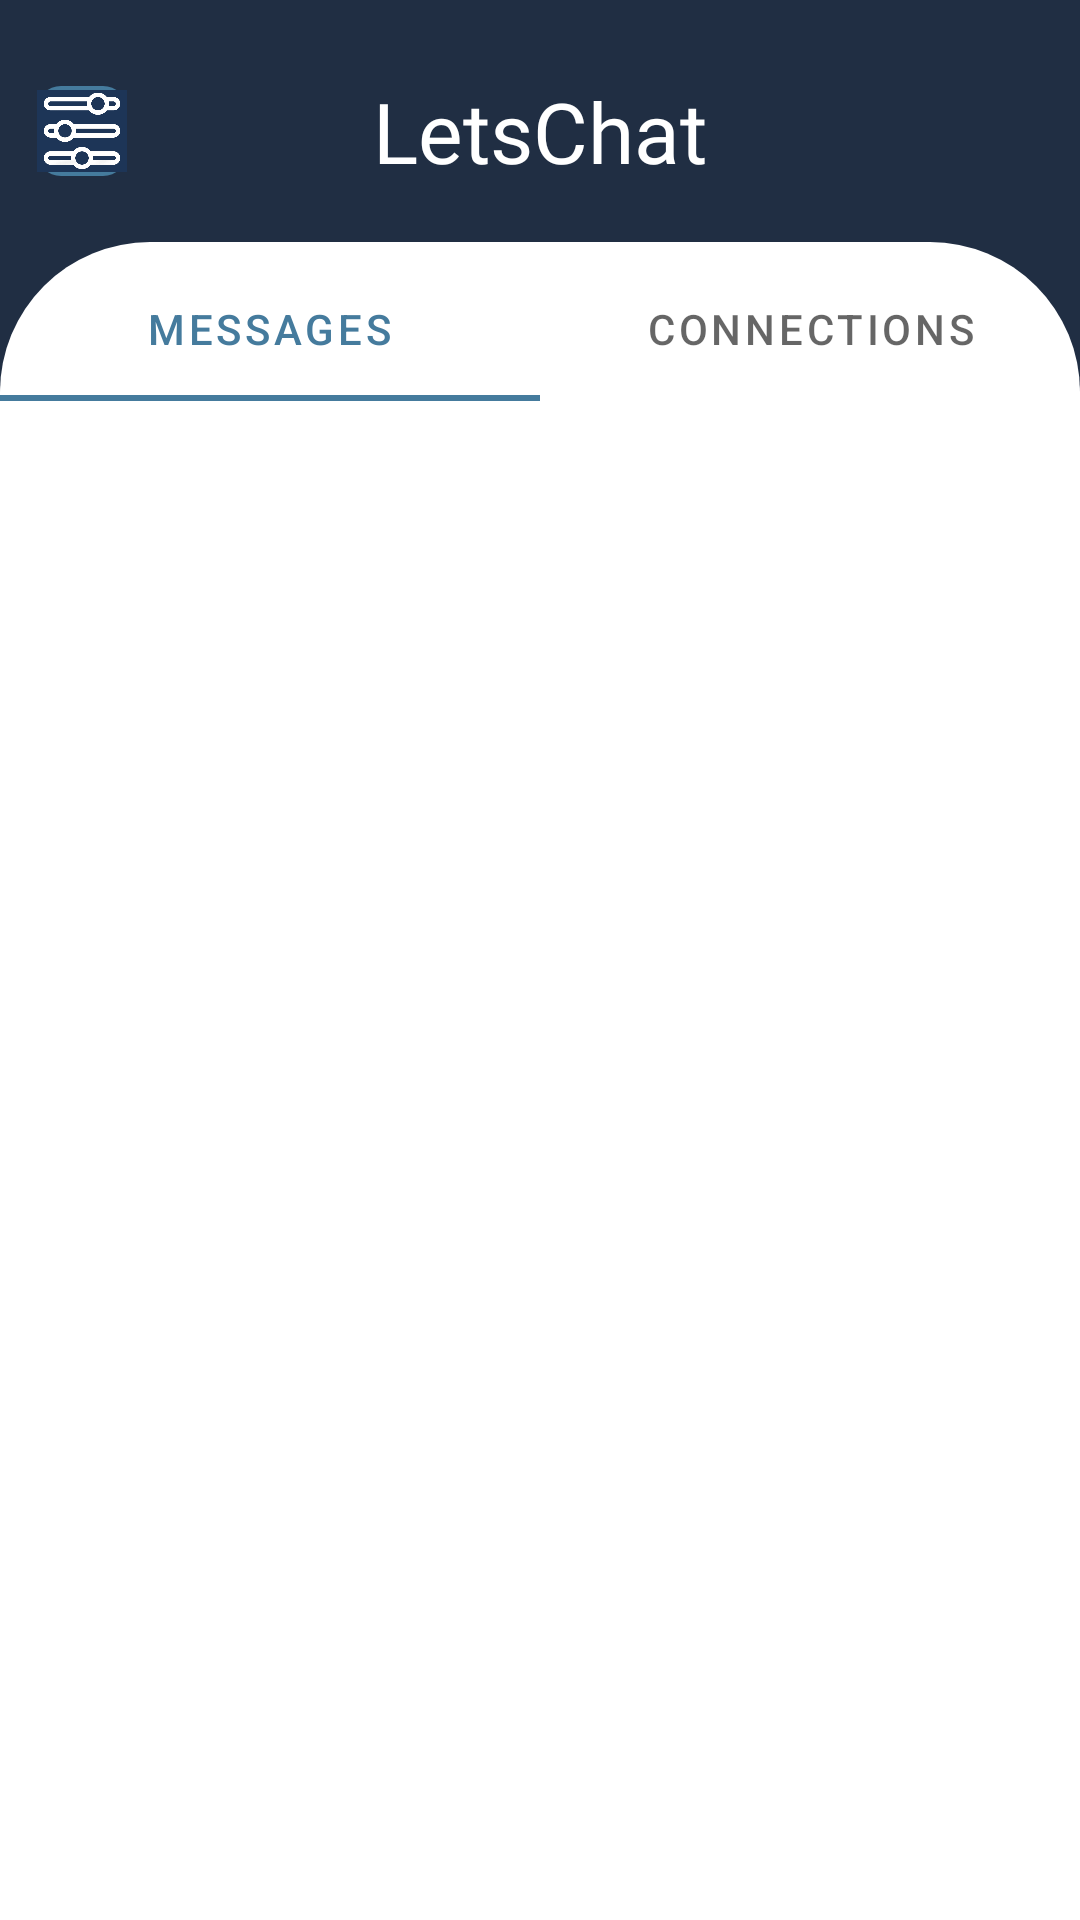

Icons on this 1080×1920 Android screen, each with the point to tap as [x,y]:
settingsicon: [82,131]
